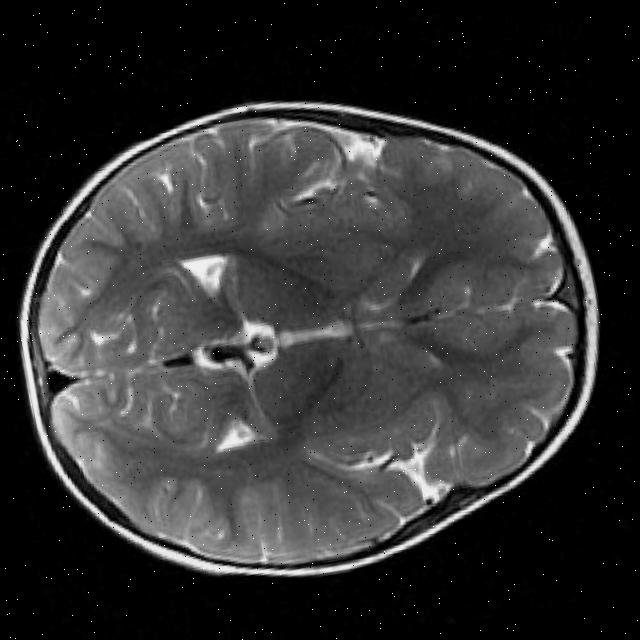NoTumor: (0, 50, 623, 620)
